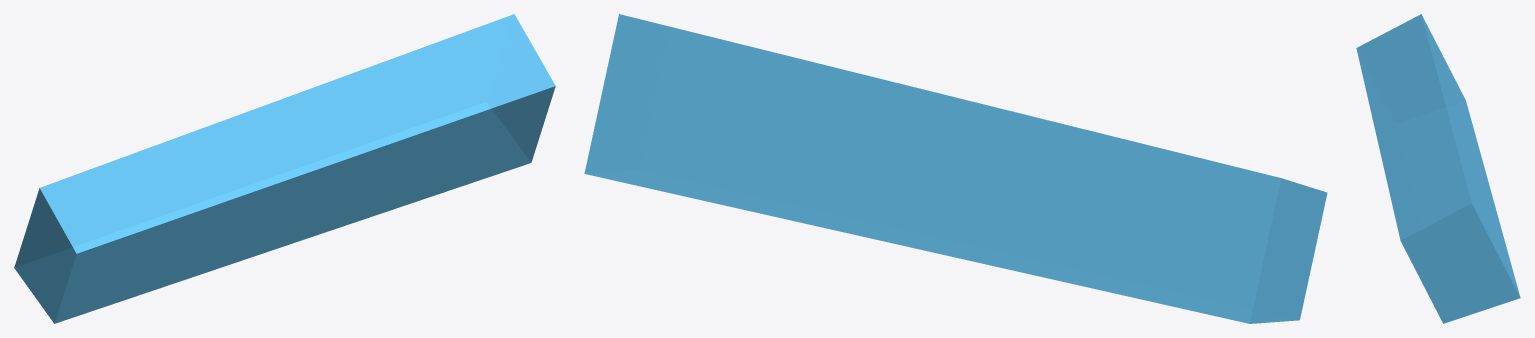
Rendered from Event_421127236_HErechit_22.fbx.
The picture shows the model from 3 angles, left to right: view 1: azimuth 30°, elevation 25°; view 2: azimuth 150°, elevation 25°; view 3: azimuth 270°, elevation 25°; orthographic projection. The views are drawn at different scales.
Parts seen in each view (by area): view 1: Model; view 2: Model; view 3: Model.
Part boxes in pixels (left/top/right/bottom): Model: left=14, top=14, right=555, bottom=323; Model: left=584, top=14, right=1327, bottom=323; Model: left=1356, top=14, right=1520, bottom=323.
Bounding box in the file's own units: 0.9801 × 0.2883 × 0.3151.
